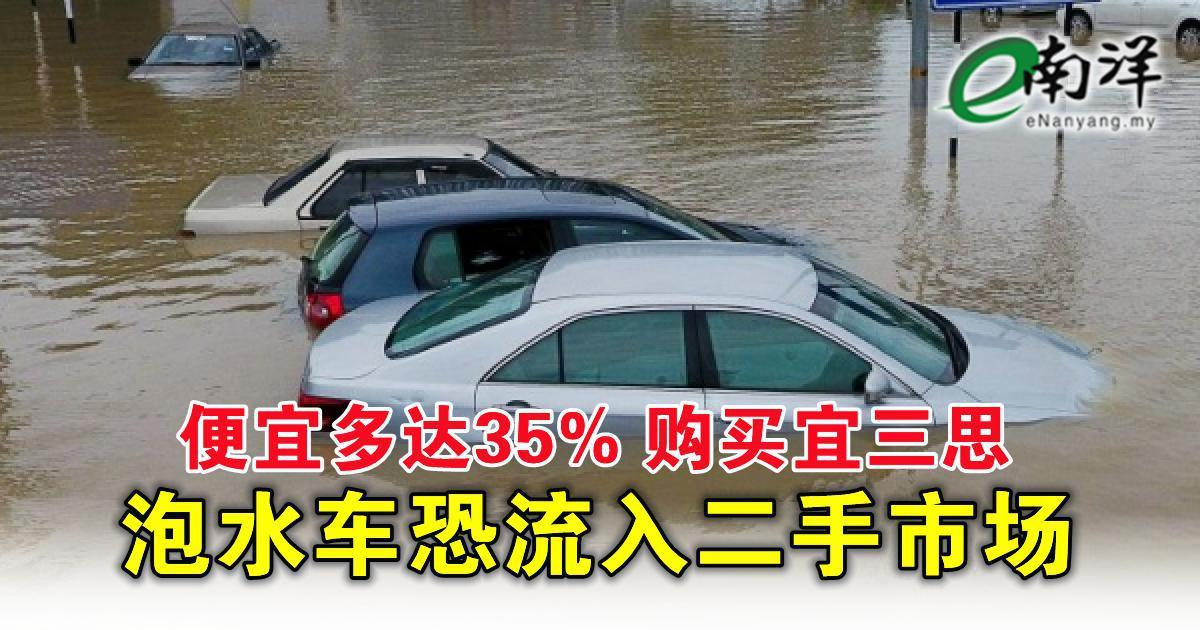water: (0, 0, 1199, 565)
